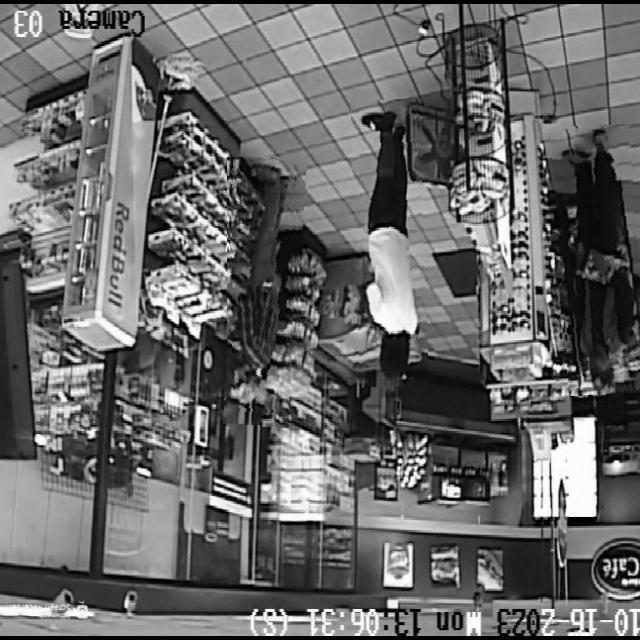Normal: (556, 125, 640, 395), (353, 99, 426, 388), (227, 157, 302, 427)
